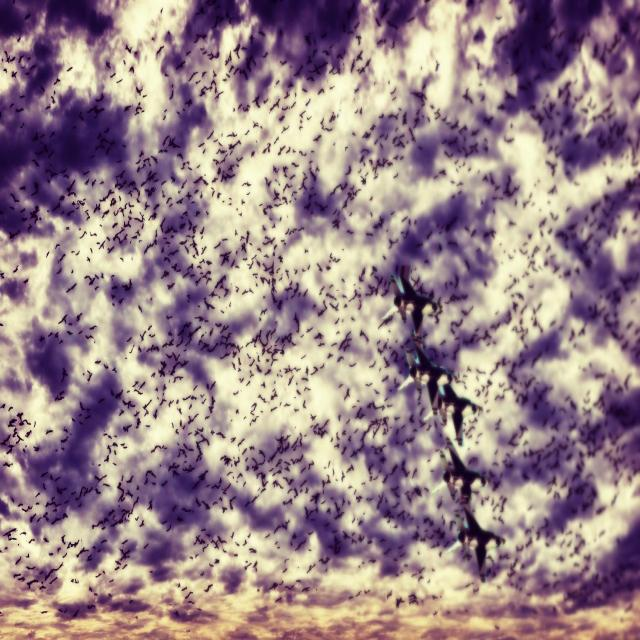airplane: (456, 508, 505, 584), (394, 267, 442, 344), (404, 341, 451, 415), (439, 441, 486, 502), (436, 376, 475, 446)
